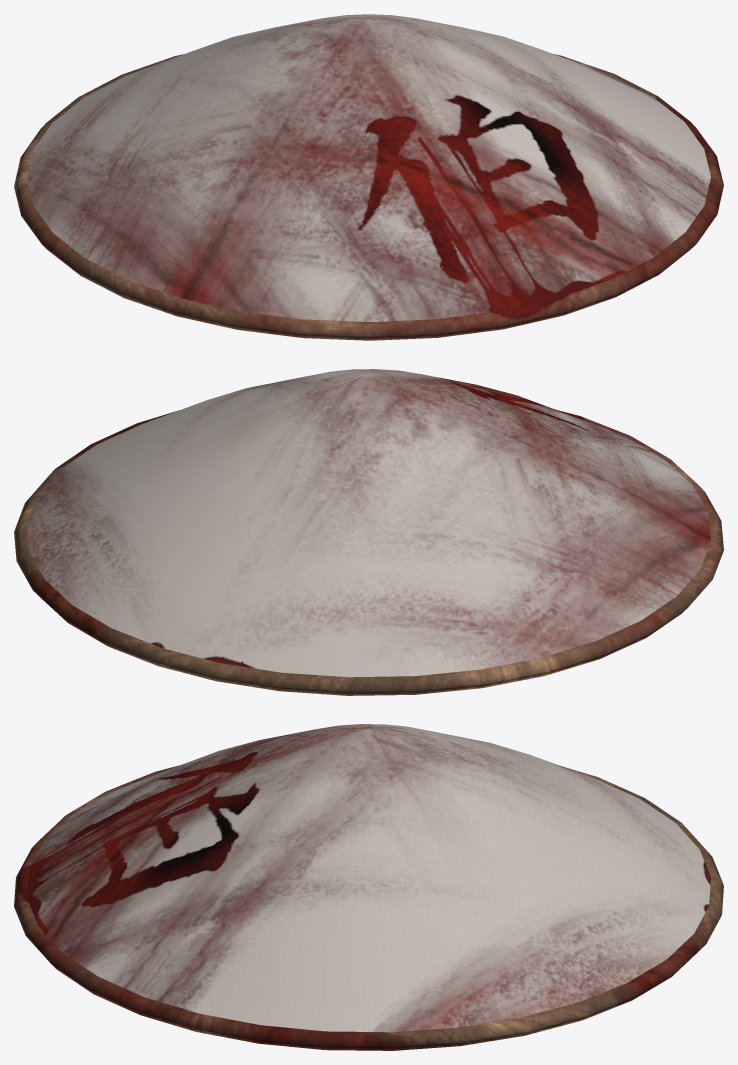
File: RattanHat_LODG.fbx
The picture shows the model from 3 angles, top to bottom: view 1: azimuth 30°, elevation 25°; view 2: azimuth 150°, elevation 25°; view 3: azimuth 270°, elevation 25°; orthographic projection.
Visible parts, largest first — view 1: RattanHat_LOD0; view 2: RattanHat_LOD0; view 3: RattanHat_LOD0.
Part boxes in pixels (bbox=[...]): RattanHat_LOD0: bbox=[14, 14, 723, 340]; RattanHat_LOD0: bbox=[14, 369, 723, 695]; RattanHat_LOD0: bbox=[14, 724, 723, 1050].
Bounding box in the file's own units: 64.18 × 17.41 × 64.18.
1 material, 1 textured.
